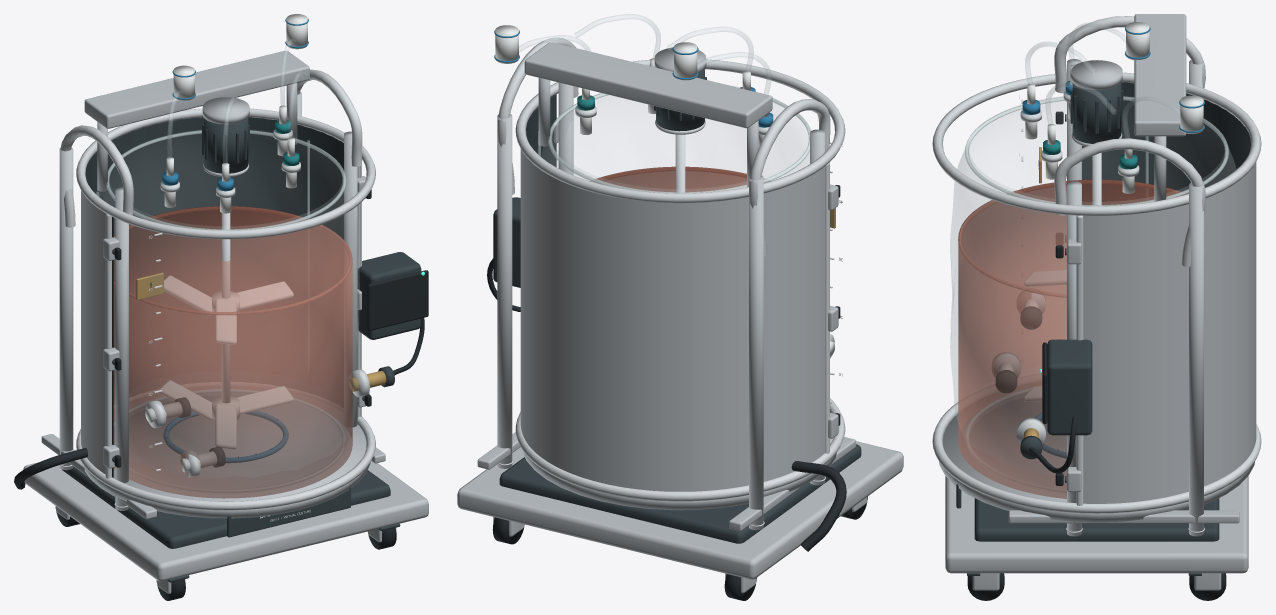
The model's file is biostat-gen2.glb.
The picture shows the model from 3 angles, left to right: view 1: azimuth 30°, elevation 25°; view 2: azimuth 150°, elevation 25°; view 3: azimuth 270°, elevation 25°; orthographic projection. The views are drawn at different scales.
Parts seen in each view (by area): view 1: HF_Static_single_use_polymer_film.007, HF_Static_satin_brushed_stainless.003, Culture liquid.003, HF_Static_anodized_graphite.004, HF_Static_polished_clamp_steel.007, HF_Static_powder_coated_ivory.007, HF_Static_powder_coated_ivory.006, HF_Static_EPDM_rubber.005, HF_Static_heat_sealed_film_edge.003, HF_Static_anodized_graphite.005, HF_Static_EPDM_rubber.004, Liquid meniscus.003 (+4 smaller); view 2: HF_Static_satin_brushed_stainless.003, HF_Static_polished_clamp_steel.007, HF_Static_single_use_polymer_film.007, HF_Static_anodized_graphite.004, HF_Static_EPDM_rubber.004, Culture liquid.003, HF_Static_powder_coated_ivory.006, HF_Static_single_use_polymer_film.006, HF_Static_heat_sealed_film_edge.003, HF_Static_anodized_graphite.005, HF_Static_polished_clamp_steel.008; view 3: HF_Static_satin_brushed_stainless.003, HF_Static_single_use_polymer_film.007, Culture liquid.003, HF_Static_polished_clamp_steel.007, HF_Static_anodized_graphite.004, HF_Static_anodized_graphite.005, HF_Static_powder_coated_ivory.006, HF_Static_heat_sealed_film_edge.003, HF_Static_single_use_polymer_film.006, HF_Static_EPDM_rubber.004, Liquid meniscus.003, HF_Static_EPDM_rubber.005 (+5 smaller).
Boxes of the visible parts, bbox=[...] form: HF_Static_single_use_polymer_film.007: bbox=[99, 129, 359, 477]; HF_Static_satin_brushed_stainless.003: bbox=[23, 50, 428, 593]; Culture liquid.003: bbox=[113, 206, 352, 498]; HF_Static_anodized_graphite.004: bbox=[62, 117, 400, 582]; HF_Static_polished_clamp_steel.007: bbox=[59, 69, 375, 510]; HF_Static_powder_coated_ivory.007: bbox=[159, 275, 293, 449]; HF_Static_powder_coated_ivory.006: bbox=[145, 14, 310, 521]; HF_Static_EPDM_rubber.005: bbox=[367, 270, 428, 375]; HF_Static_heat_sealed_film_edge.003: bbox=[96, 130, 346, 492]; HF_Static_anodized_graphite.005: bbox=[357, 252, 421, 387]; HF_Static_EPDM_rubber.004: bbox=[14, 189, 396, 600]; Liquid meniscus.003: bbox=[113, 206, 352, 314]; HF_Static_satin_brushed_stainless.003: bbox=[457, 42, 903, 593]; HF_Static_polished_clamp_steel.007: bbox=[497, 37, 845, 526]; HF_Static_single_use_polymer_film.007: bbox=[541, 86, 809, 191]; HF_Static_anodized_graphite.004: bbox=[499, 70, 861, 543]; HF_Static_EPDM_rubber.004: bbox=[492, 185, 867, 600]; Culture liquid.003: bbox=[590, 166, 770, 192]; HF_Static_powder_coated_ivory.006: bbox=[495, 25, 842, 403]; HF_Static_single_use_polymer_film.006: bbox=[519, 14, 771, 94]; HF_Static_heat_sealed_film_edge.003: bbox=[538, 93, 811, 193]; HF_Static_anodized_graphite.005: bbox=[493, 197, 520, 287]; HF_Static_polished_clamp_steel.008: bbox=[675, 134, 685, 192]; HF_Static_satin_brushed_stainless.003: bbox=[939, 14, 1256, 590]; HF_Static_single_use_polymer_film.007: bbox=[950, 96, 1236, 474]; Culture liquid.003: bbox=[958, 179, 1180, 498]; HF_Static_polished_clamp_steel.007: bbox=[932, 16, 1261, 532]; HF_Static_anodized_graphite.004: bbox=[956, 82, 1250, 575]; HF_Static_anodized_graphite.005: bbox=[1020, 339, 1092, 459]; HF_Static_powder_coated_ivory.006: bbox=[999, 22, 1203, 371]; HF_Static_heat_sealed_film_edge.003: bbox=[965, 96, 1228, 492]; HF_Static_single_use_polymer_film.006: bbox=[1025, 22, 1179, 138]; HF_Static_EPDM_rubber.004: bbox=[967, 111, 1226, 600]; Liquid meniscus.003: bbox=[958, 180, 1179, 297]; HF_Static_EPDM_rubber.005: bbox=[1029, 342, 1077, 473].
Size of the model in its own units: 2.03 by 2.45 by 1.45.
